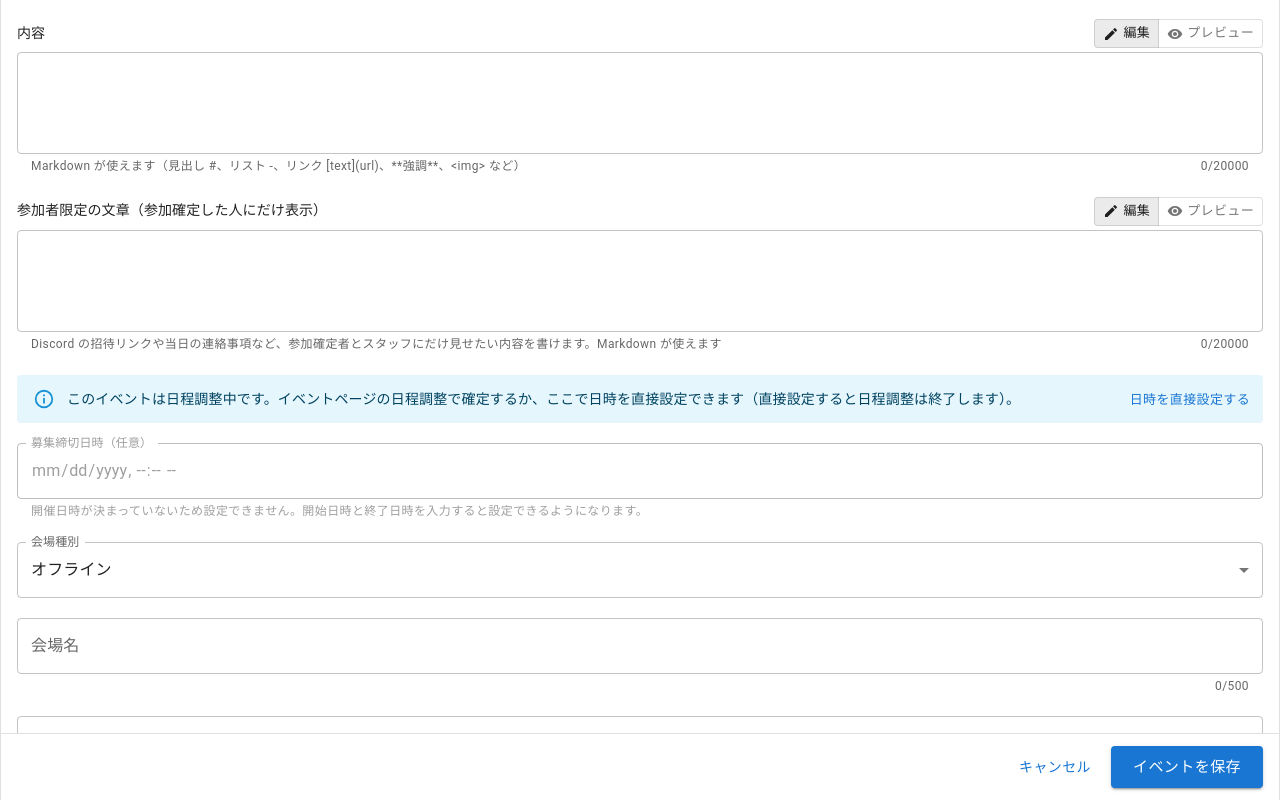
Test: イベント編集の日時順序の警告 (#399) › 日時を直接確定する保存では、サーバーに合わせて同時刻も警告する
(page scrolled)
Click the button "日時を直接設定する": coordinates (1190, 400) [1125,385,1255,416]
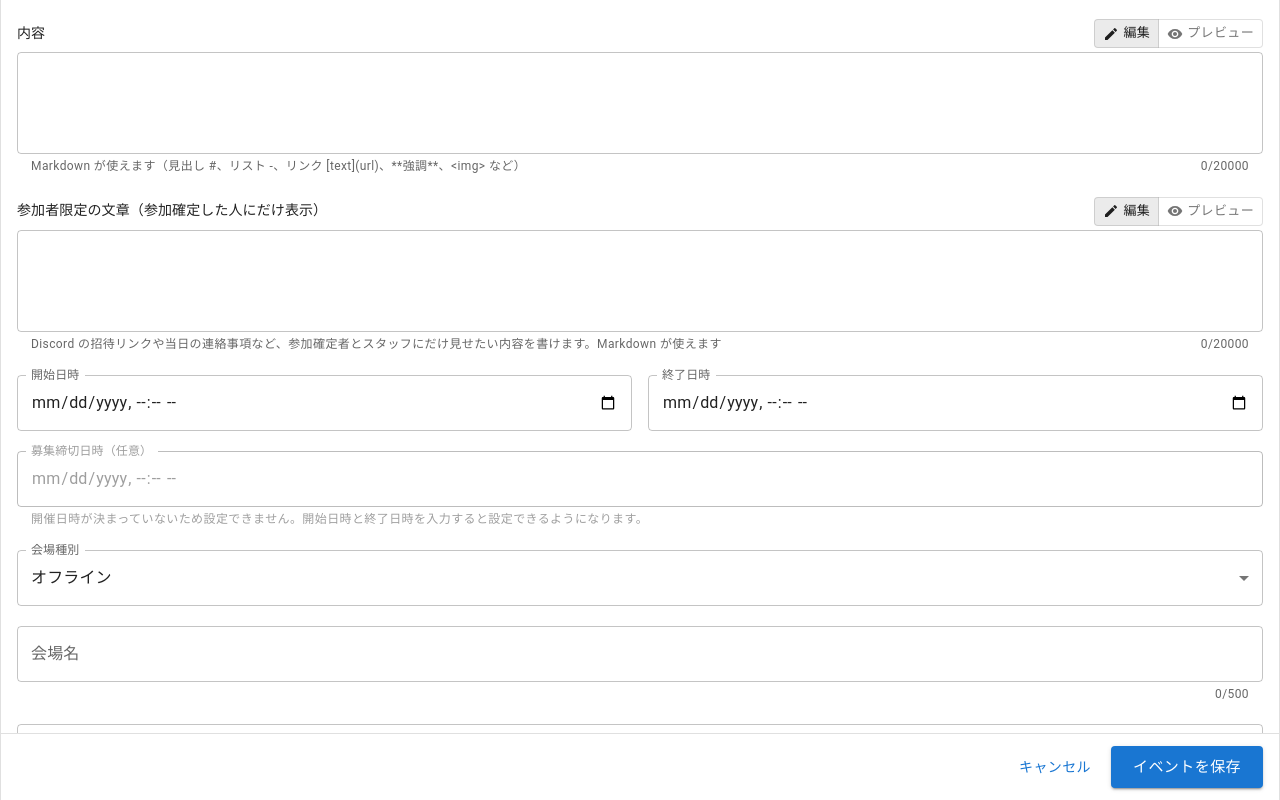
In the field labelled "開始日時": coordinates (324, 403) [17,375,632,431], type "2026-09-01T10:00"
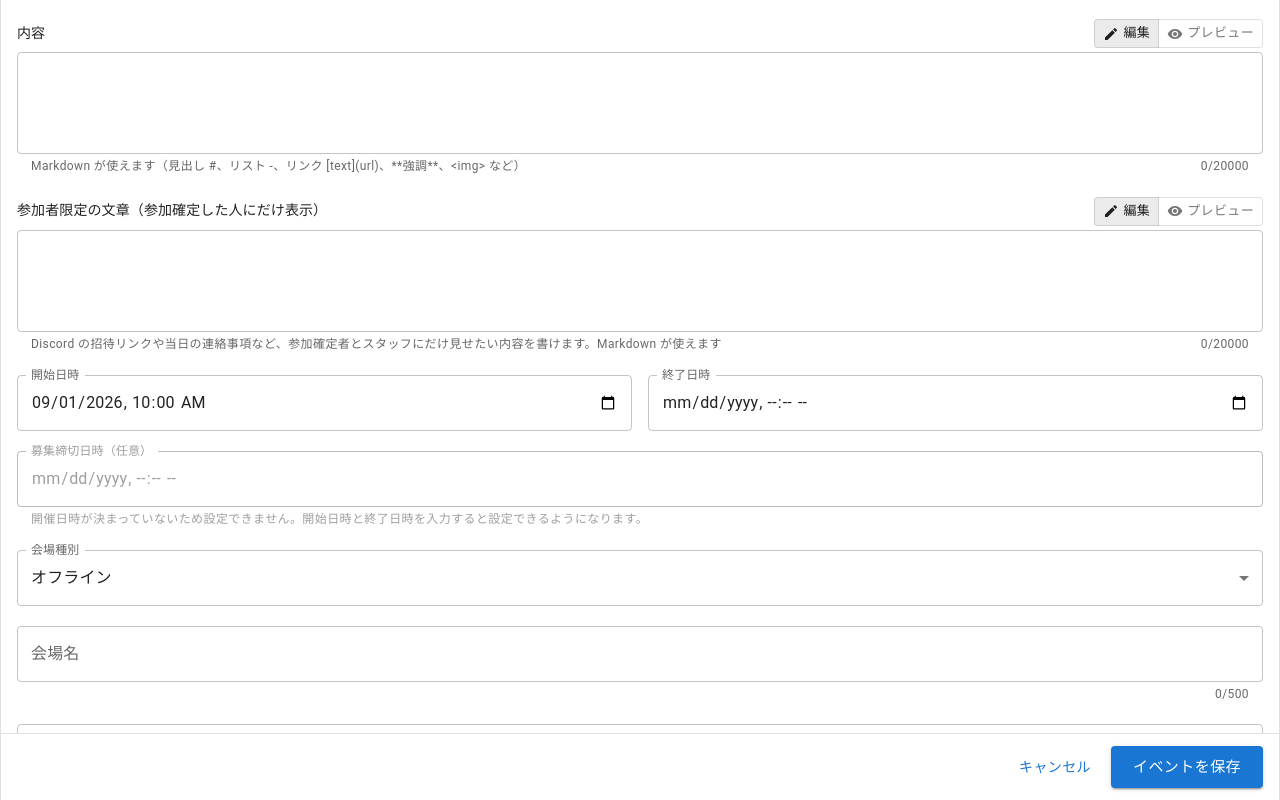
In the field labelled "終了日時": coordinates (956, 403) [648,375,1263,431], type "2026-09-01T10:00"
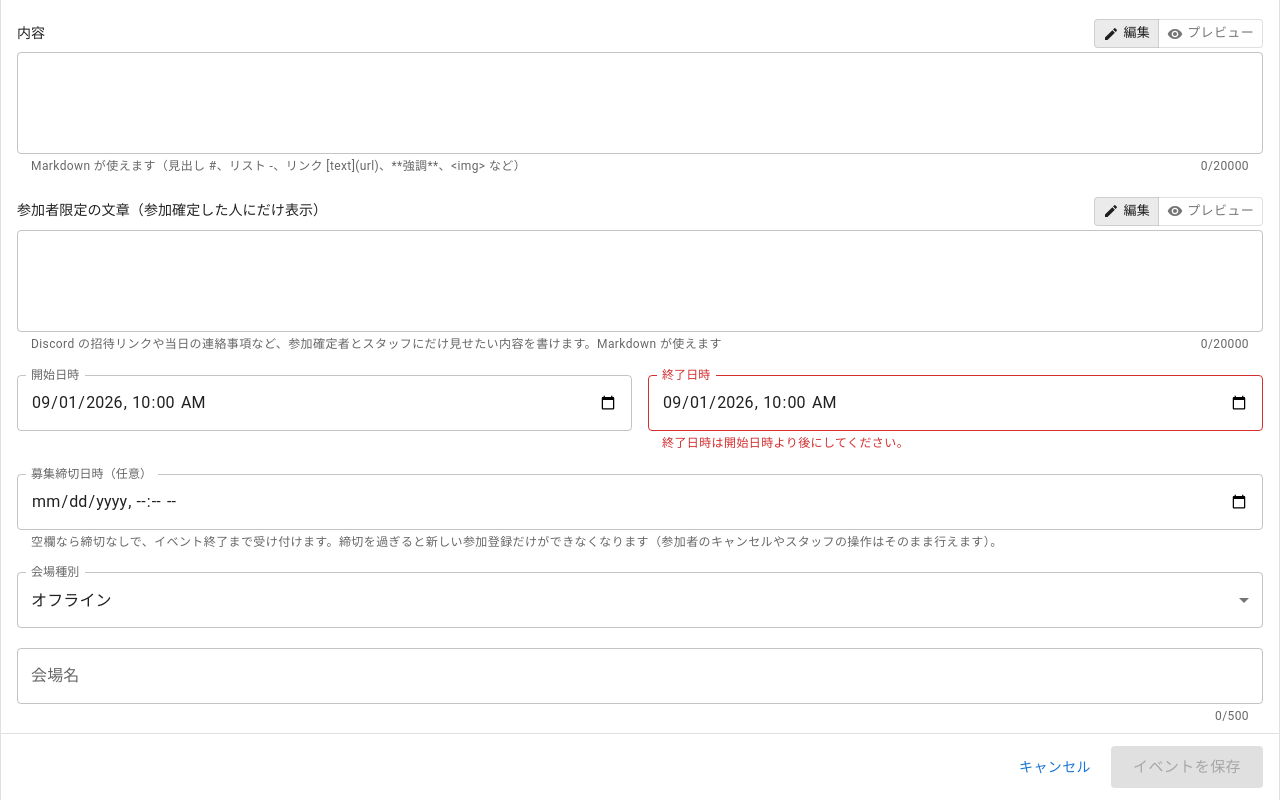
Expected: the text "終了日時は開始日時より後にしてください。" is shown, [662,436,909,450]
Expected: the button "イベントを保存" is disabled, [1111,746,1263,788]
